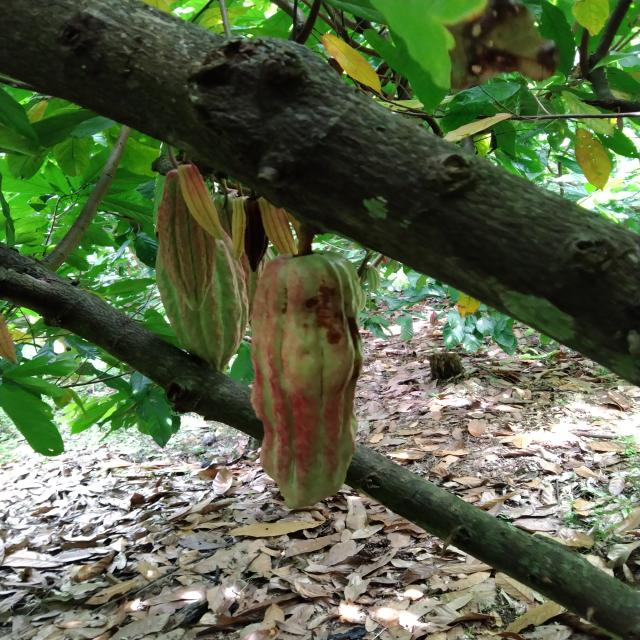Fitoftora: (245, 255, 374, 509)
Sana: (154, 167, 219, 322), (172, 163, 226, 244), (254, 199, 294, 253)
